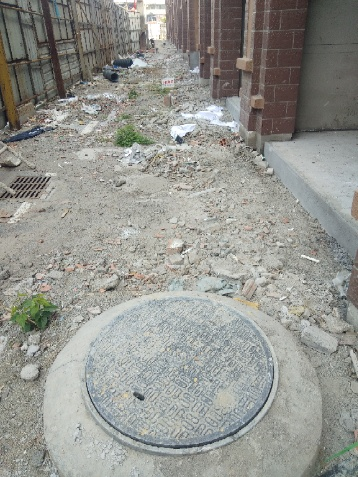good: (81, 297, 279, 454)
